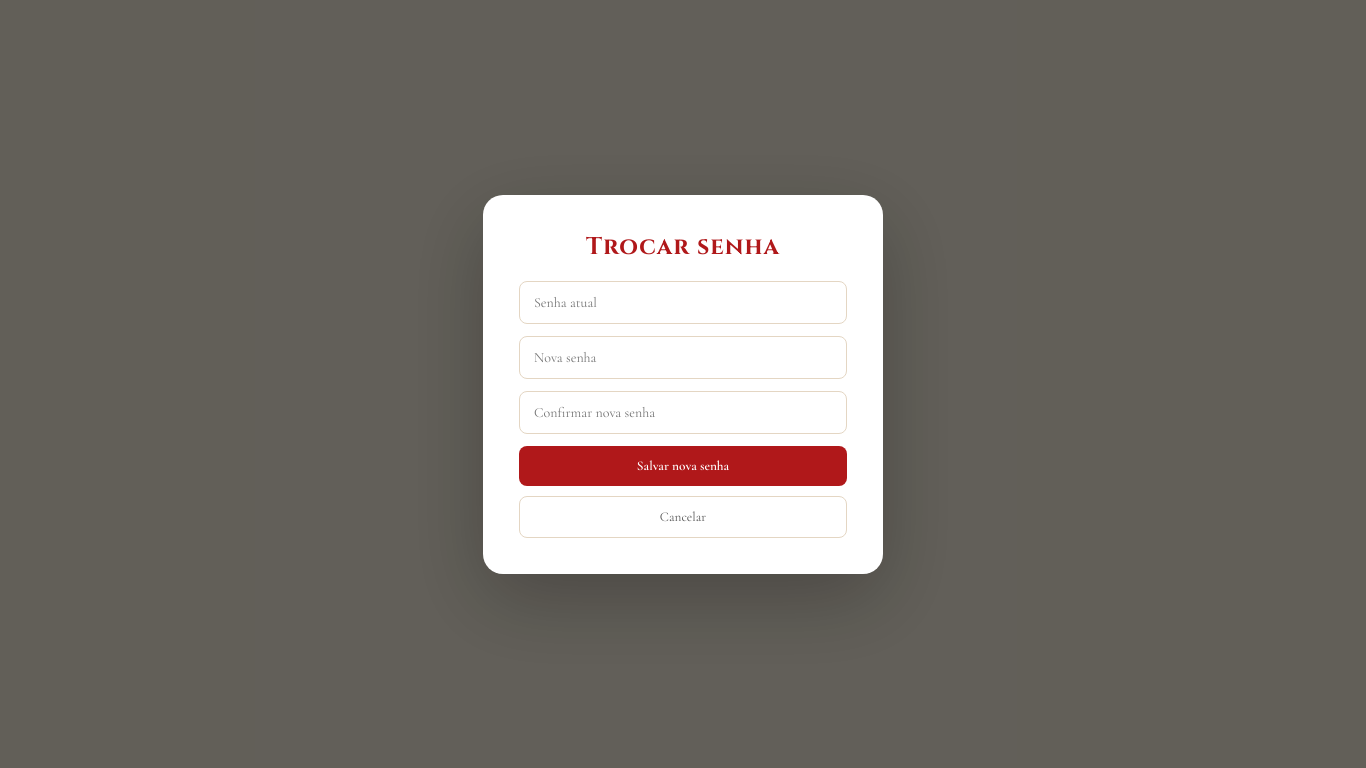
Test: ChangePasswordModal › requires every field
The width and height of the screenshot is (1366, 768).
Click the button "Salvar nova senha": (683, 466) [519,446,847,486]
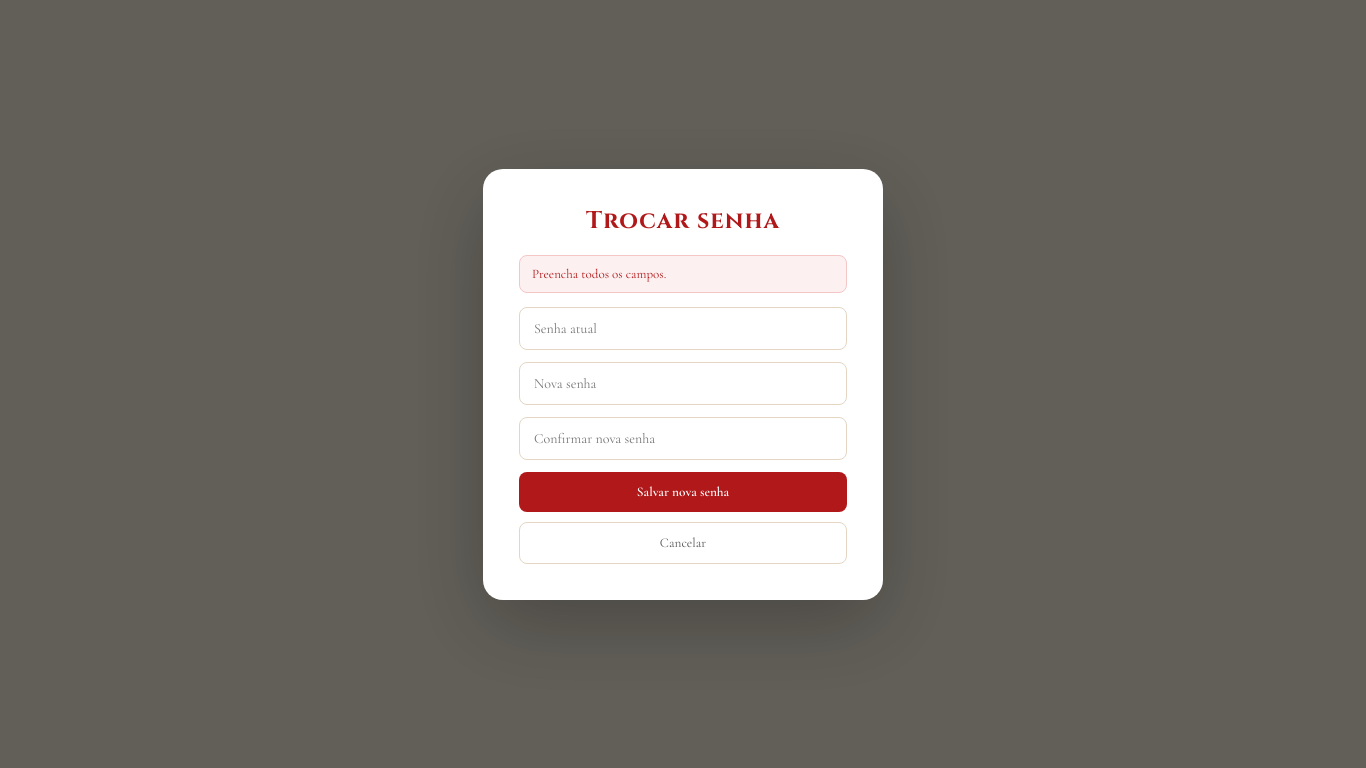
Result: the text "Preencha todos os campos." is shown at [519,254,847,292]
